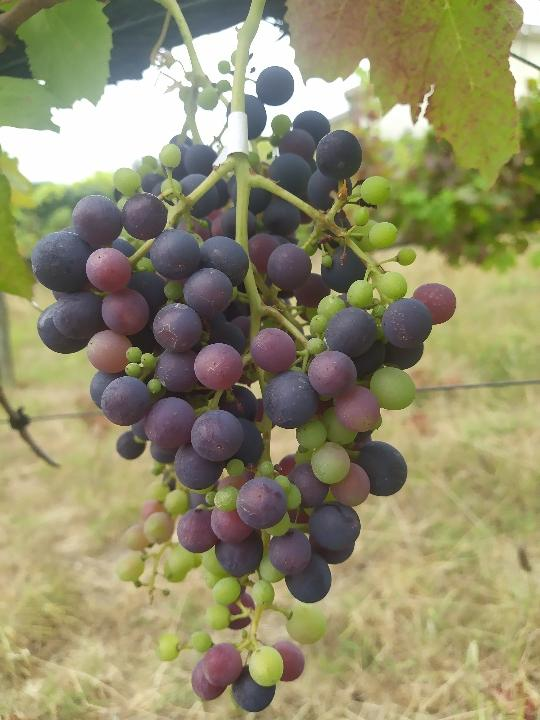grape: (28, 63, 459, 715)
